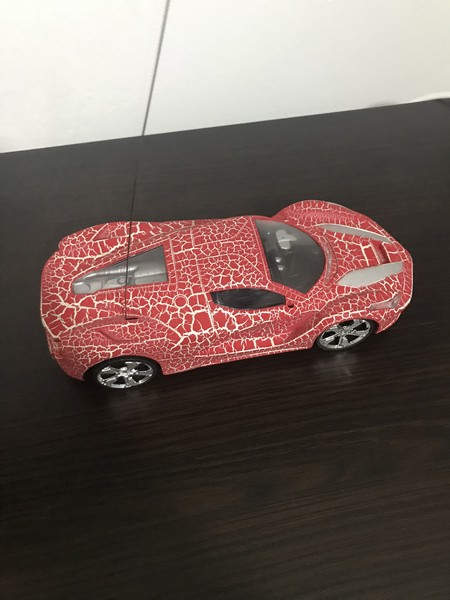RC: (39, 197, 418, 392)
